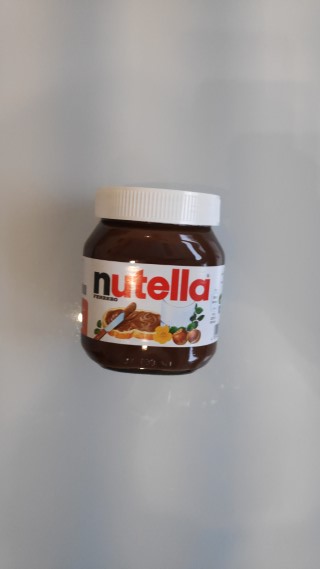nutella: (80, 184, 224, 378)
